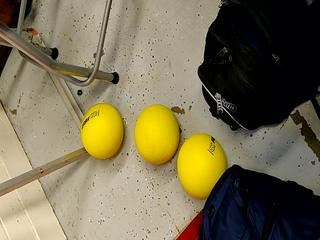power_cell: (175, 131, 231, 202), (79, 102, 129, 161), (129, 103, 179, 162)
